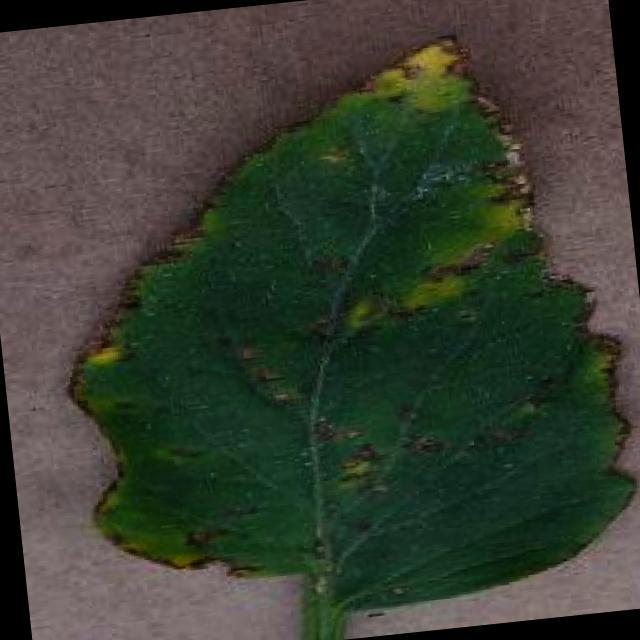Tomato bacterial spot leaf: (23, 11, 640, 640)
